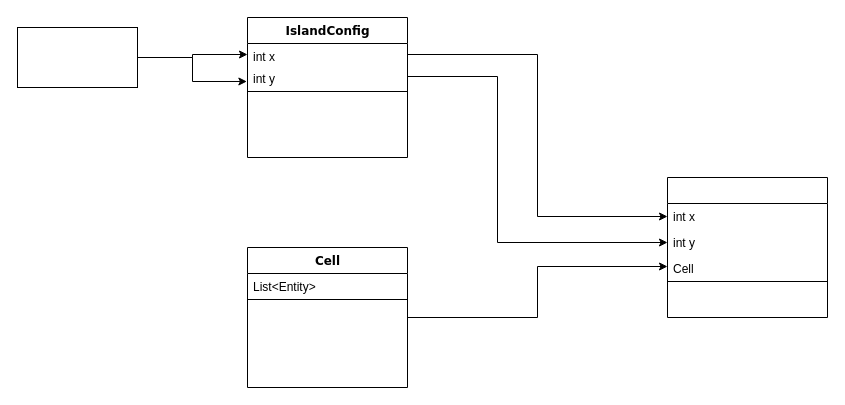
This 845x405 diagram has some shape labels left out. Here are the shapes that lost their labels. From the top down, the box of each, then its label:
(16, 26, 138, 88): IslandYaml
(666, 176, 828, 318): IslandDTO
